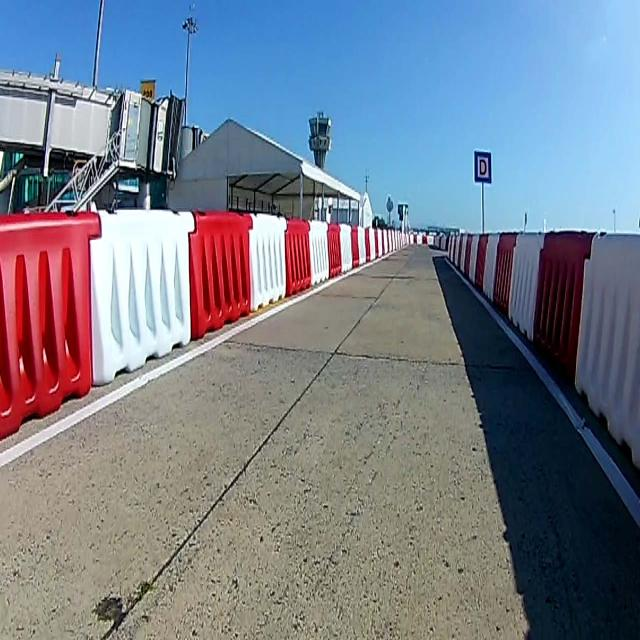durak: (475, 152, 491, 185)
